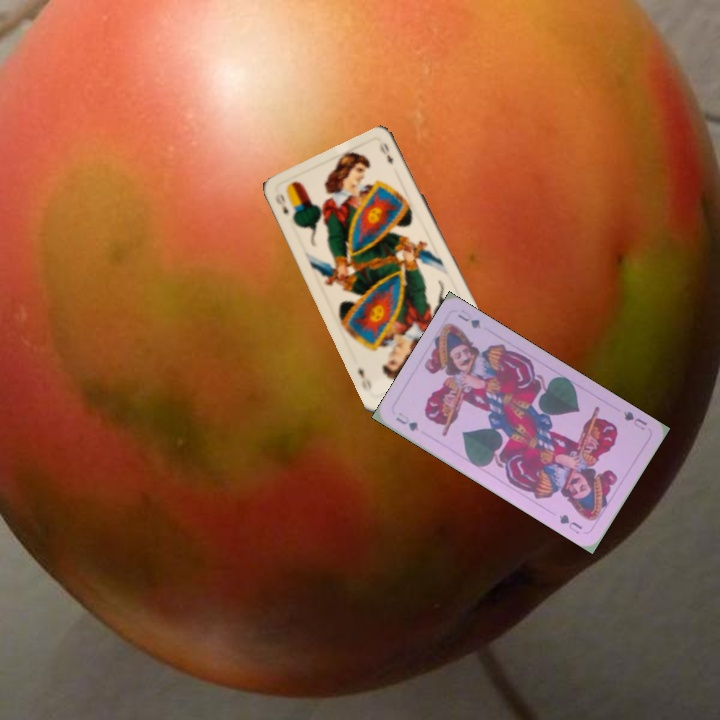EO: (271, 189, 291, 216)
GU: (619, 407, 650, 433), (392, 408, 422, 434)
